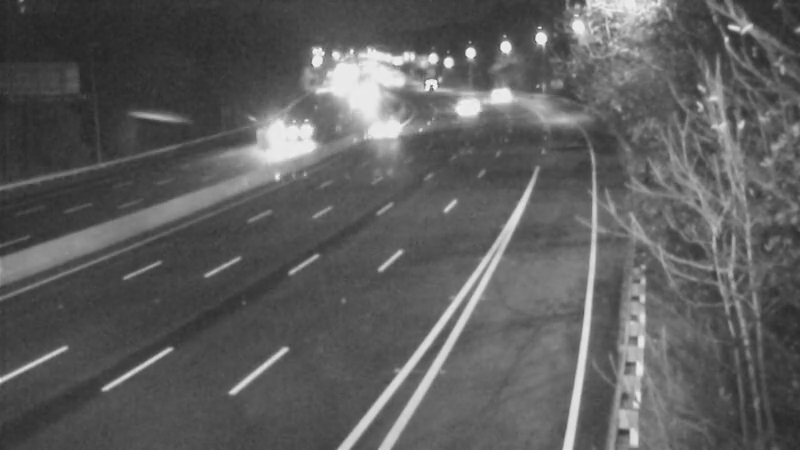vehicle: (407, 62, 457, 112), (483, 73, 533, 123), (438, 81, 488, 131), (362, 92, 412, 142), (276, 110, 326, 160), (246, 100, 296, 150)
